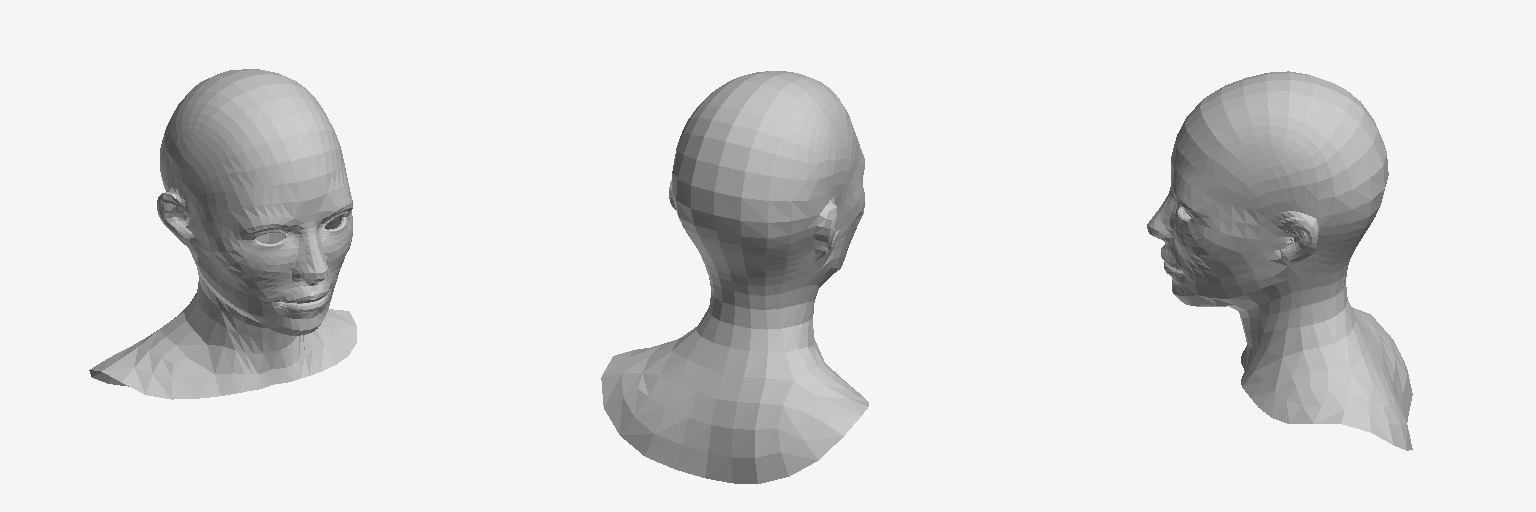
Rendered from target.obj.
3 renders of one model, left to right at view 1: azimuth 30°, elevation 25°; view 2: azimuth 150°, elevation 25°; view 3: azimuth 270°, elevation 25°, orthographic.
Size of the model in its own units: 3.02 by 4.1 by 2.8.